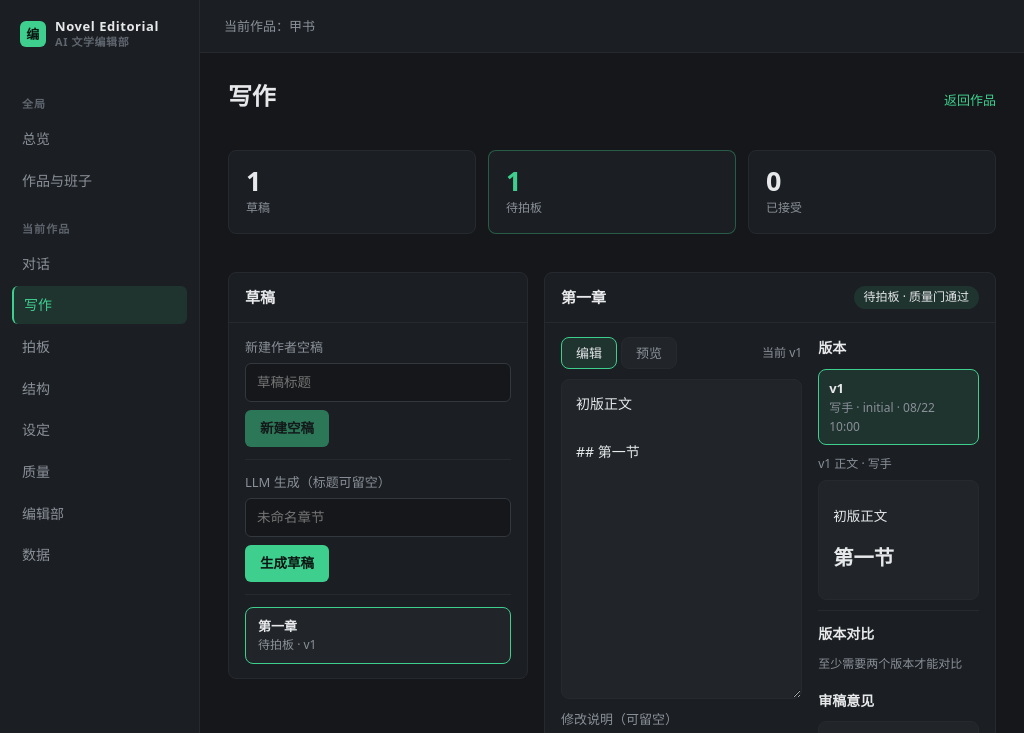
Test: writer page › keeps unsaved editor input when a new version arrives from a refresh
The width and height of the screenshot is (1024, 733).
Check: the heading "第一章" is shown, box [561,286,606,309]
Replace the text in the text box with test id "editor-textarea" with "我的未保存修改" at [682, 540], box [561,380,802,700]
(page scrolled)
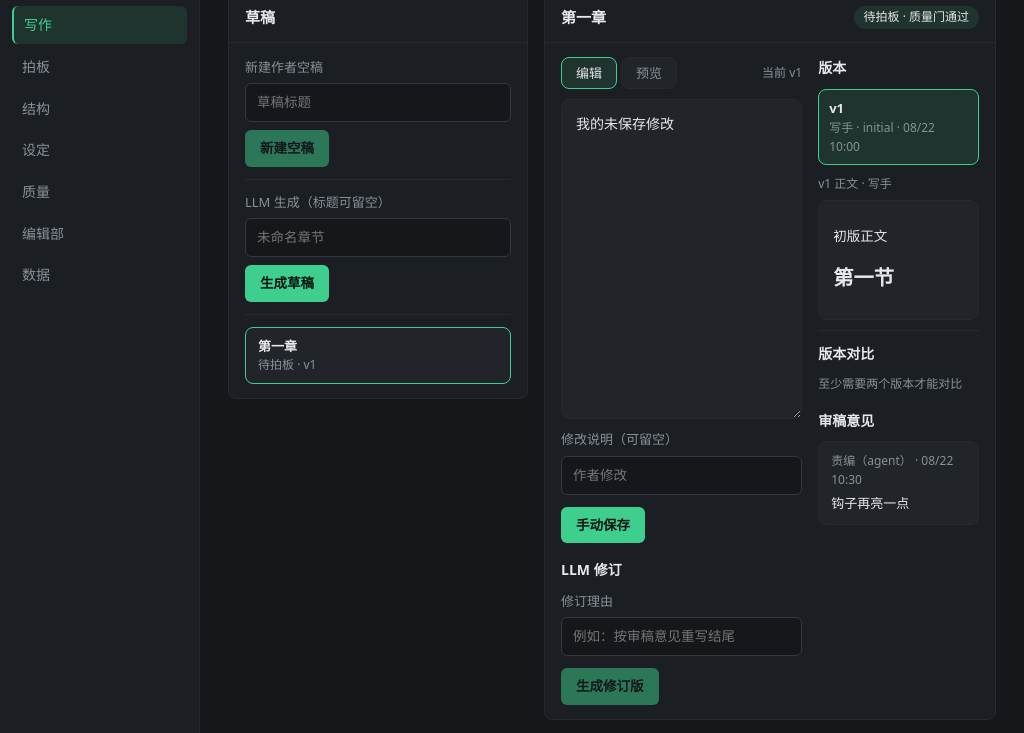
Type "按意见重写" into the field with test id "revise-reason-input".
click(682, 637); type("按意见重写")  # box [561,617,802,656]
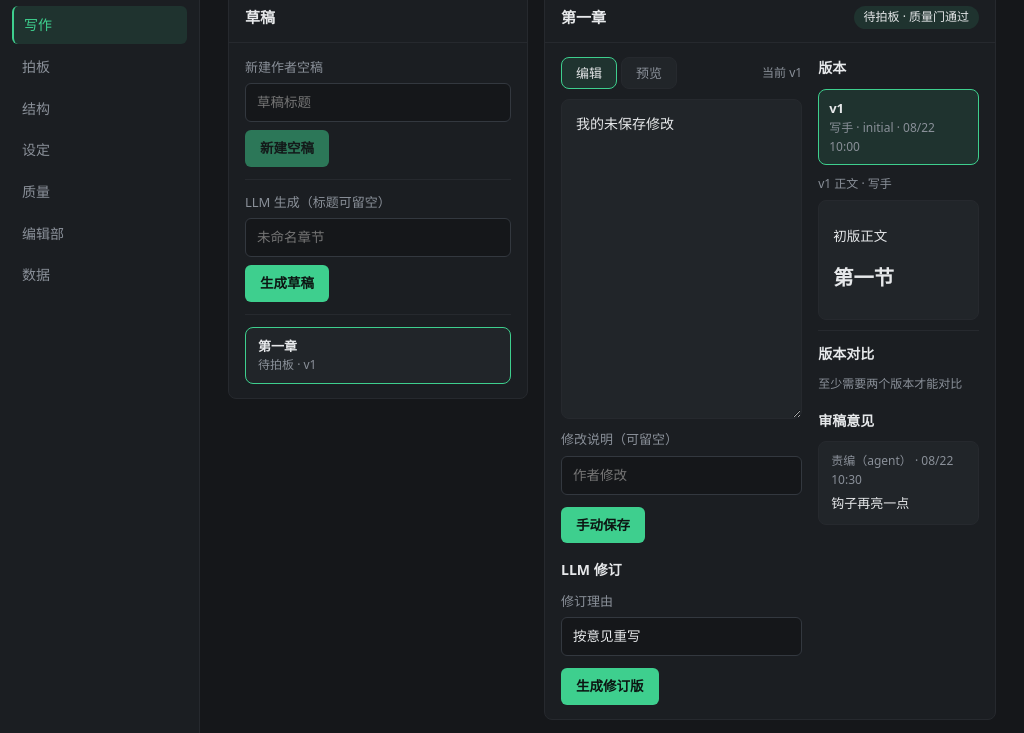
Click the button with test id "revise-button".
click(610, 687)  # box [561,668,658,705]
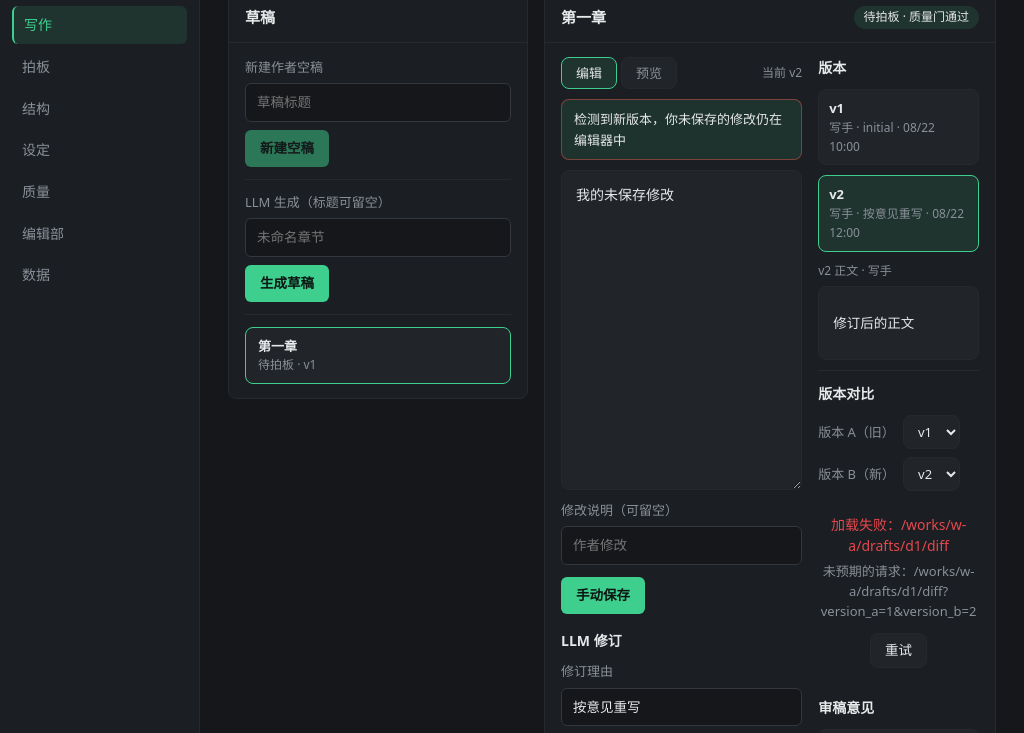
Check: the message with test id "editor-sync-notice" shows "检测到新版本", box [574,110,782,149]
